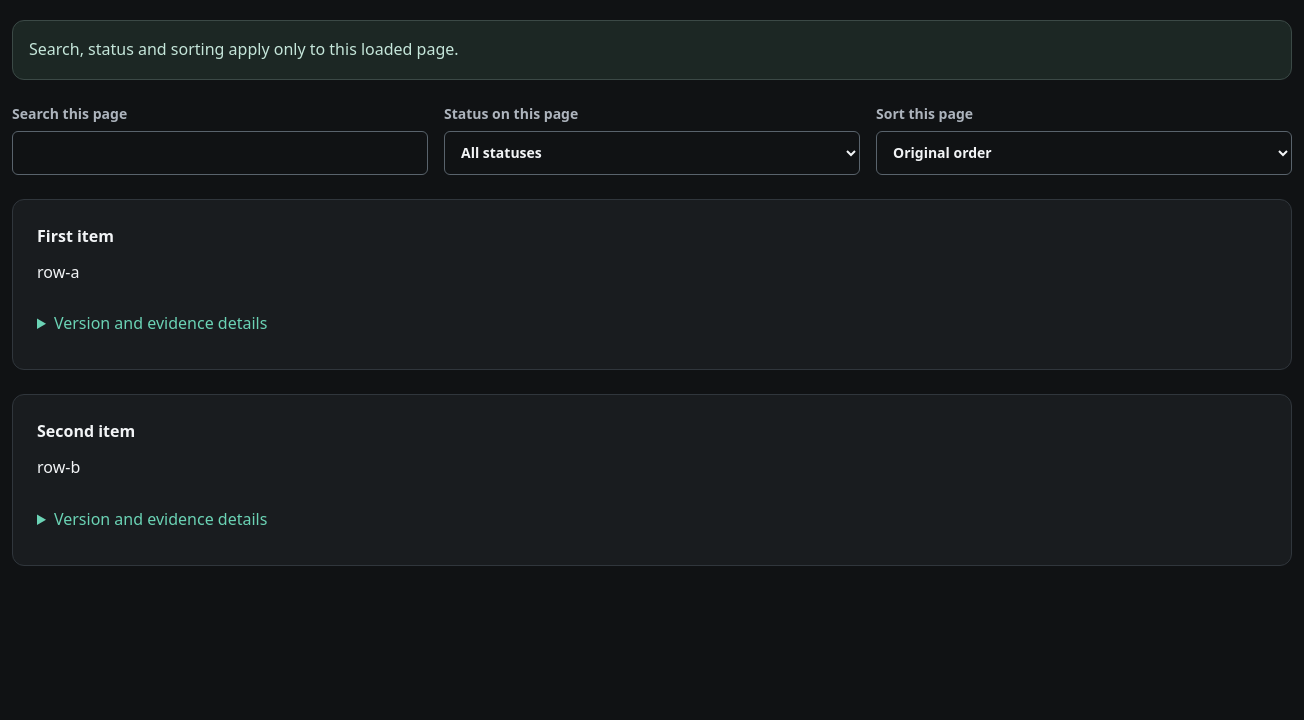
Test case: renders filtered mobile cards with the same source details
Step 1. Type "First" into the search field labelled "Search this page" → (220, 153), box x1=12 y1=131 x2=428 y2=175
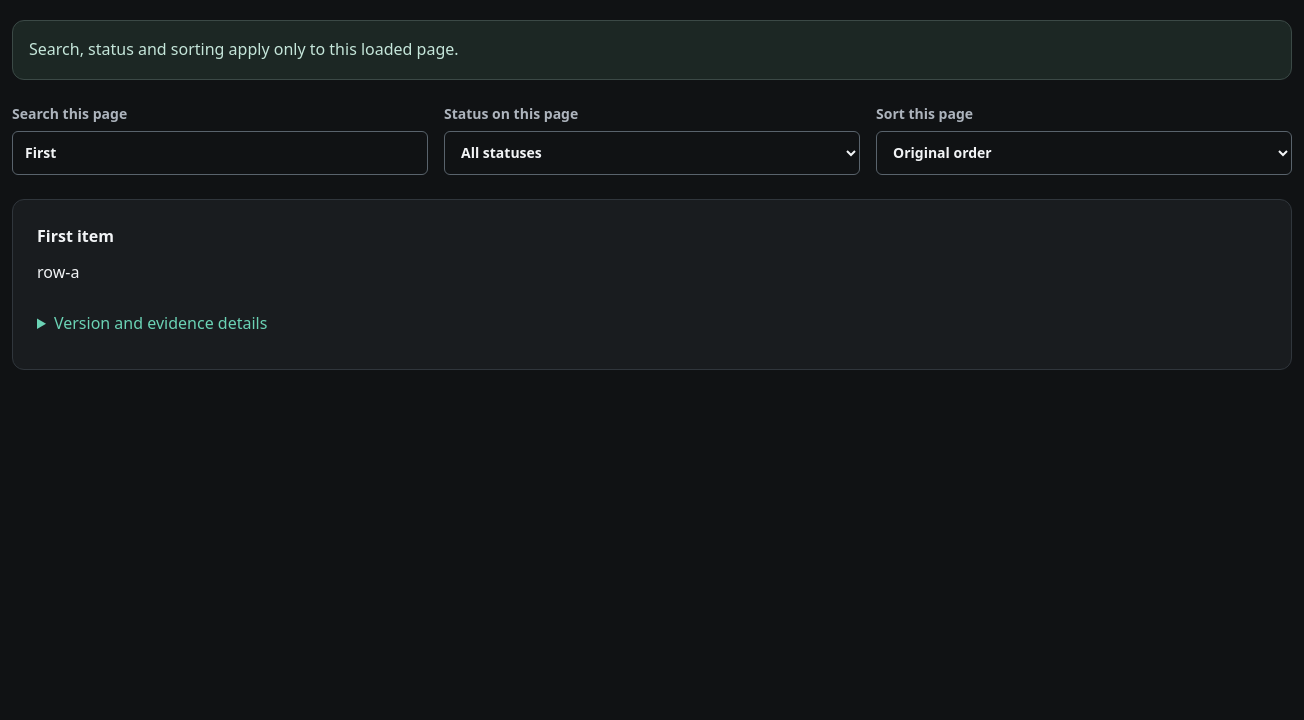
Expected: the element with class "lifecycle-mobile-cards" is shown, x1=12 y1=199 x2=1292 y2=370
Expected: the heading "Second item" is gone
